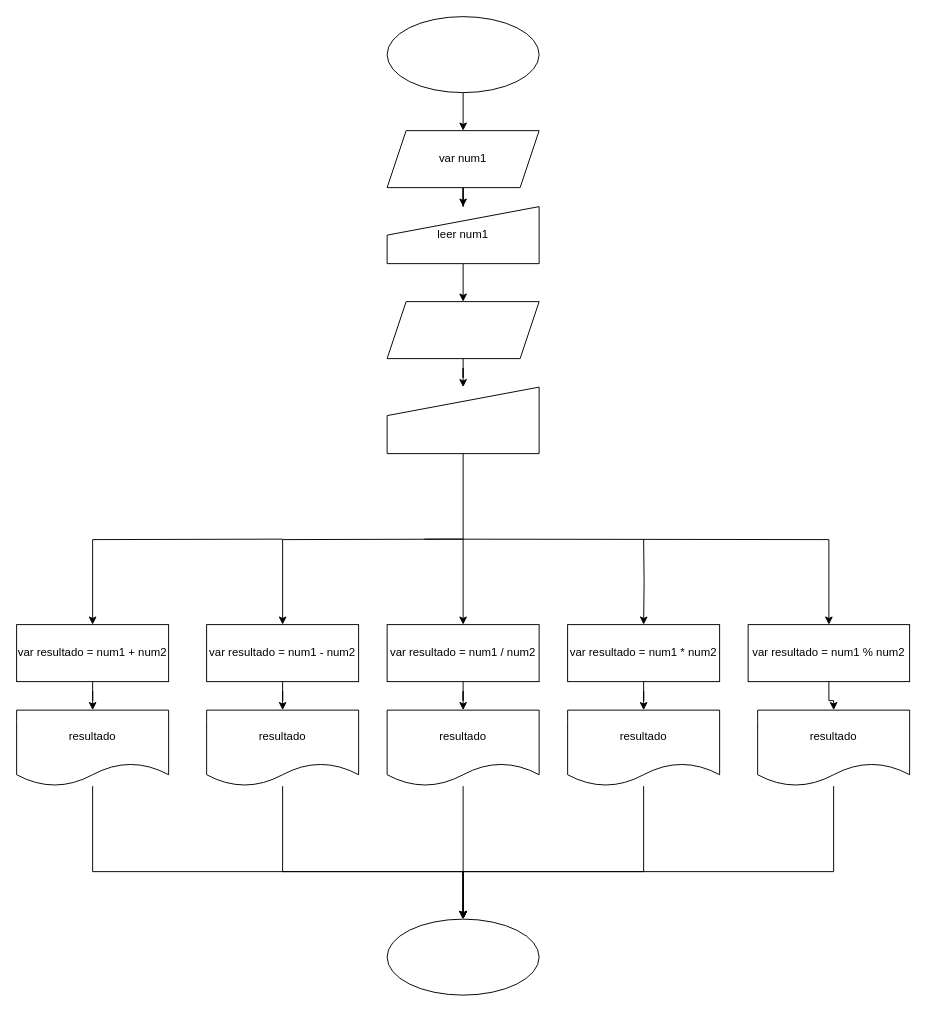
Image size: 926x1012. Some labels were removed from this diagram. Here are the shapes that lost their labels. From the top down, the centre of each, then its label:
At point (462, 54): "Inicio".
At point (462, 330): "var num2".
At point (462, 420): "leer num2".
At point (462, 956): "Fin".
